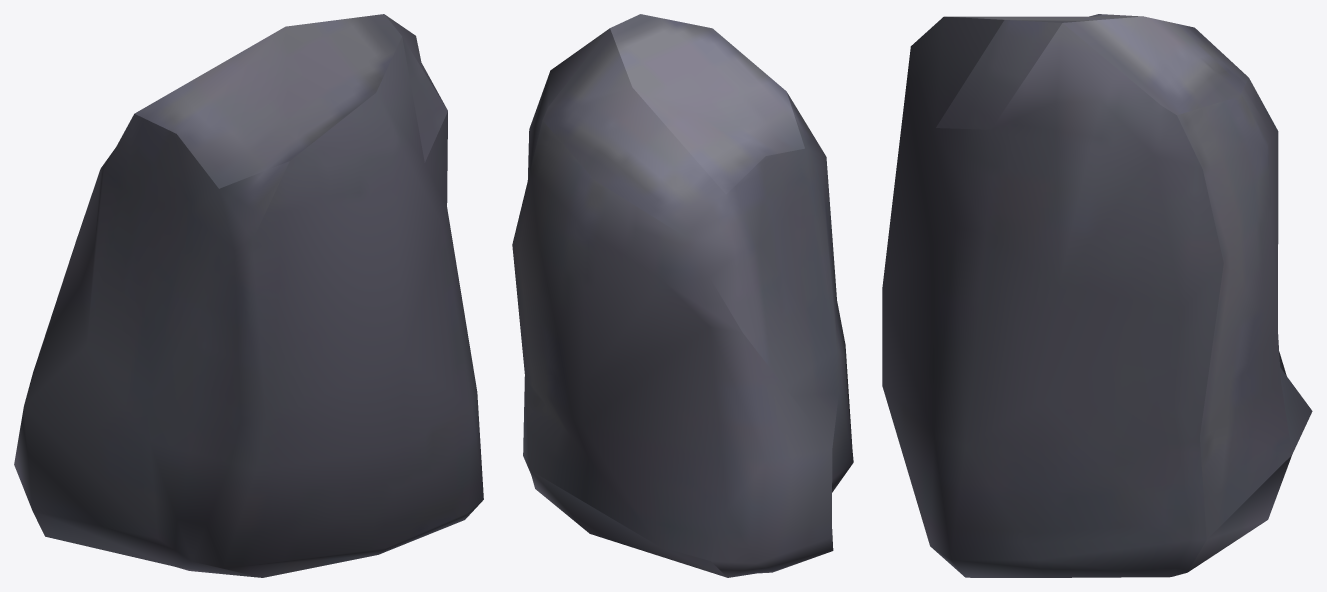
Rendered from DeepForestRock11Textured.fbx.
3 views of the same model, side by side, from view 1: azimuth 30°, elevation 25°; view 2: azimuth 150°, elevation 25°; view 3: azimuth 270°, elevation 25° (orthographic). The views are drawn at different scales.
Parts seen in each view (by area): view 1: ForestRock11; view 2: ForestRock11; view 3: ForestRock11.
Boxes of the visible parts, bbox=[...] form: ForestRock11: bbox=[14, 14, 483, 577]; ForestRock11: bbox=[512, 14, 853, 577]; ForestRock11: bbox=[882, 14, 1312, 577].
Size of the model in its own units: 1.13 by 1.52 by 1.08.
1 material, 1 textured.
